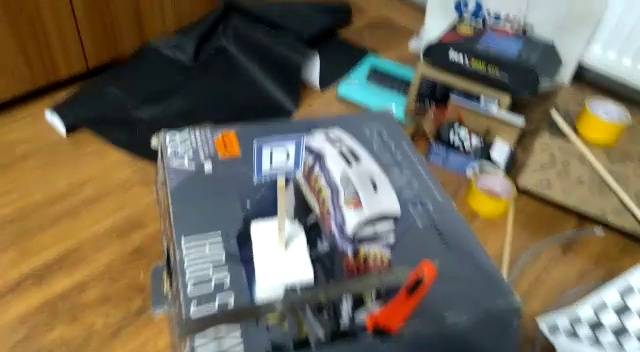durak: (254, 135, 307, 183)
